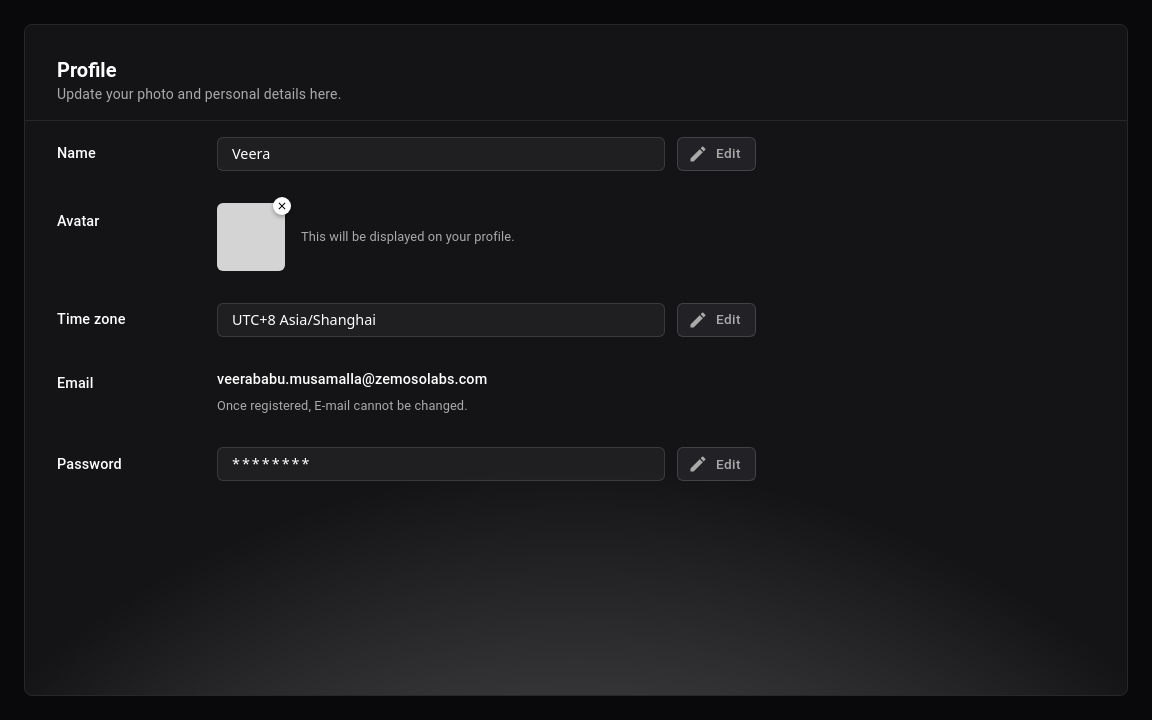
Test: ProfileSettingPage Component › deletes avatar successfully when top-right close icon button is clicked
Step 1. Click the 2nd button → (282, 206), box x1=273 y1=197 x2=291 y2=215
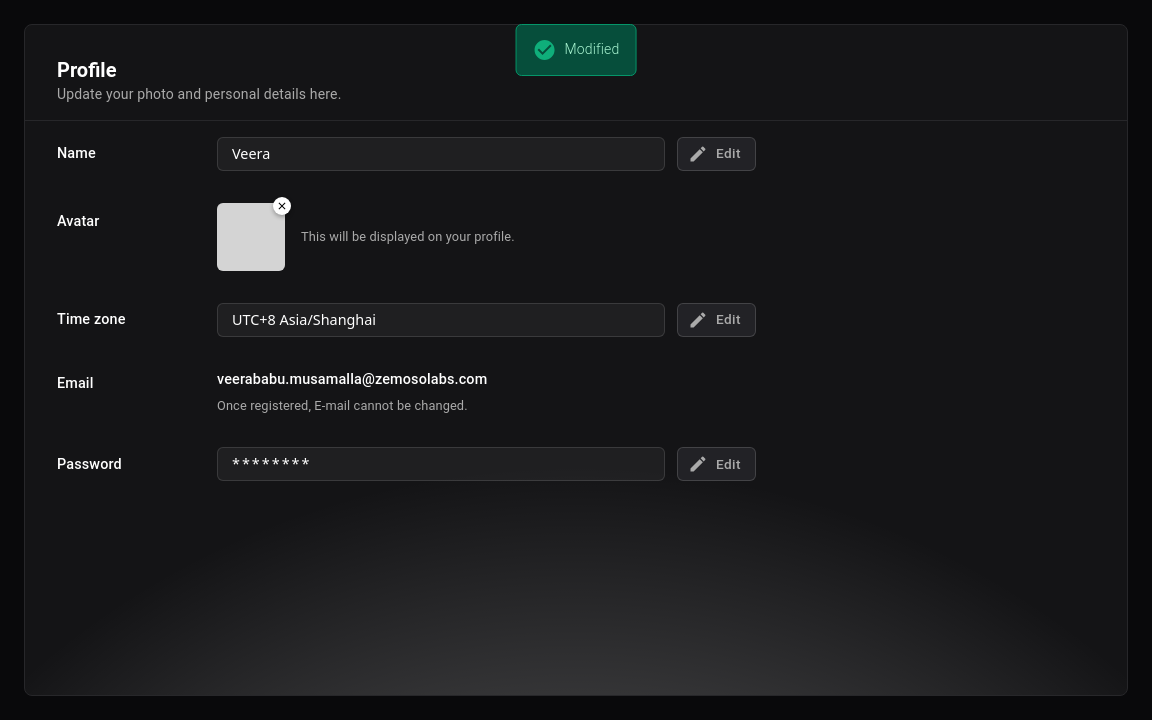
Check: the text "Modified" is shown, box x1=565 y1=41 x2=620 y2=57
